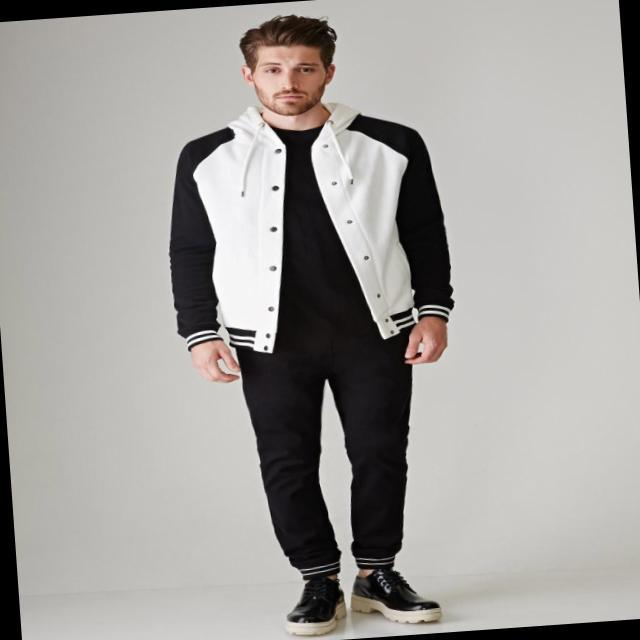jacket: (166, 104, 457, 355)
short sleeve shirt: (266, 127, 384, 348)
trousers: (236, 339, 432, 579)
